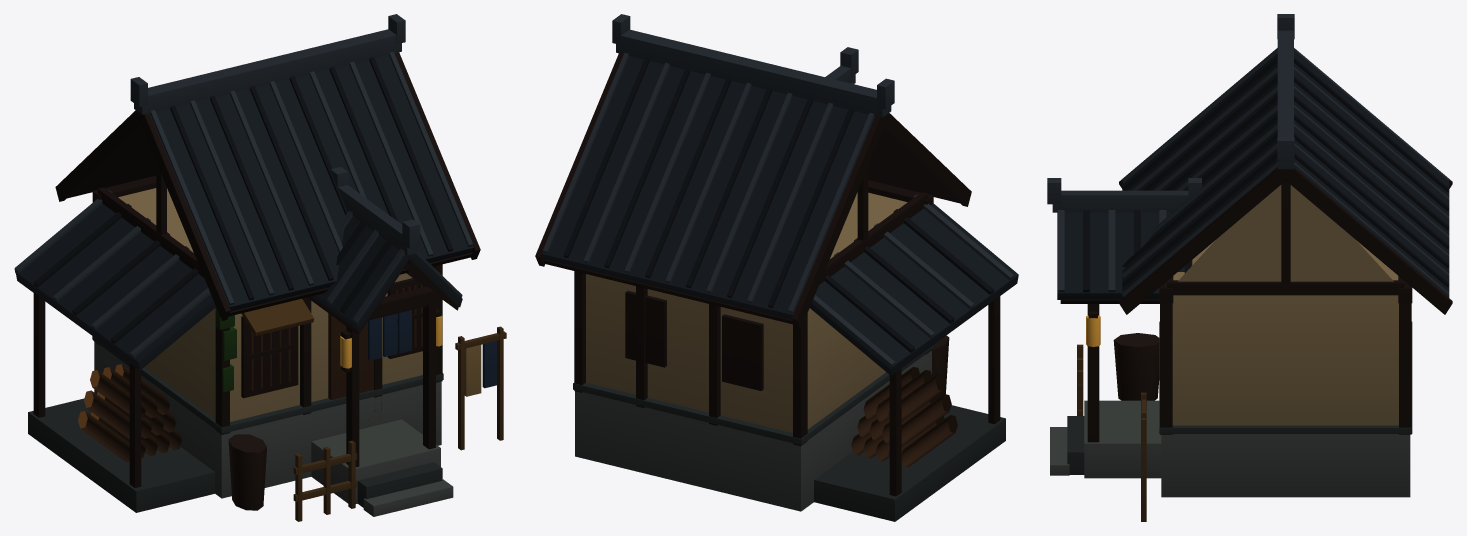
File: guofeng_house_cottage.glb
3 views of the same model, side by side, from view 1: azimuth 30°, elevation 25°; view 2: azimuth 150°, elevation 25°; view 3: azimuth 270°, elevation 25° (orthographic). The views are drawn at different scales.
Parts seen in each view (by area): view 1: Shell, Glow; view 2: Shell; view 3: Shell.
Boxes of the visible parts, box(x1,y1,x2,y2) form: Shell: box(14, 14, 506, 521); Glow: box(340, 315, 442, 368); Shell: box(535, 14, 1018, 521); Shell: box(1047, 14, 1452, 521).
Bounding box in the file's own units: 1 × 1 × 1.
